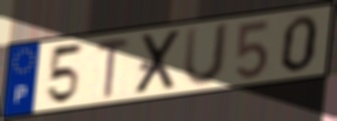0: (279, 13, 321, 74)
5: (232, 17, 273, 81), (46, 41, 84, 106)
T: (95, 37, 131, 101)
U: (180, 21, 232, 89)
X: (132, 27, 185, 97)
